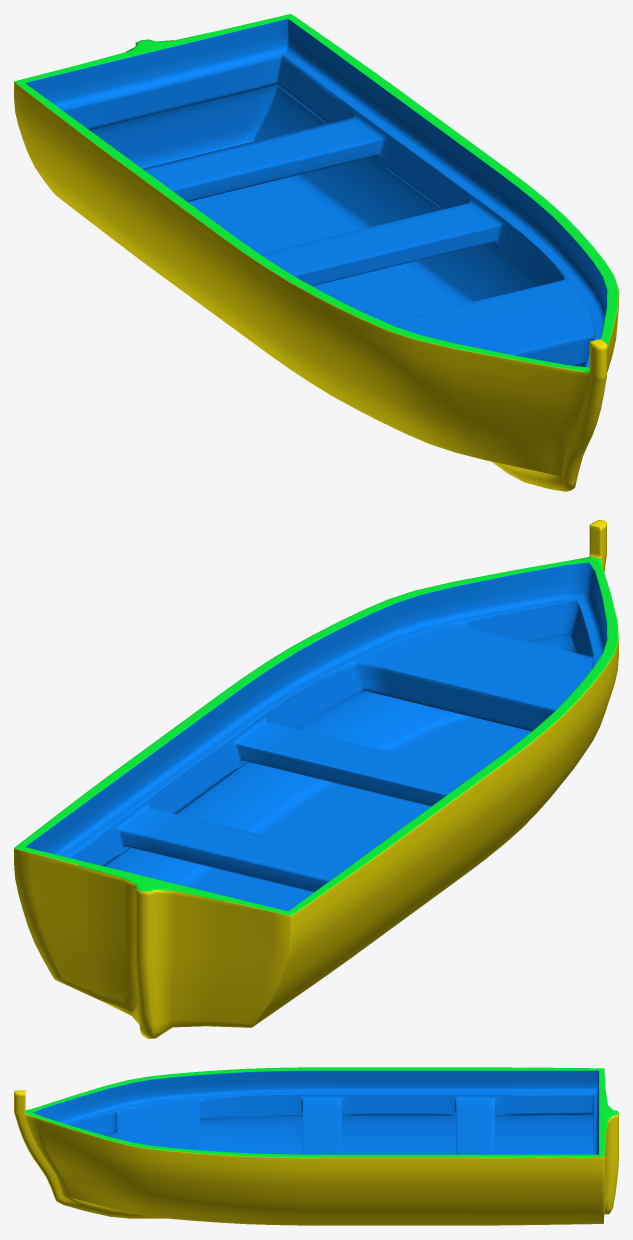
Rendered from boat.fbx.
The picture shows the model from 3 angles, top to bottom: view 1: azimuth 30°, elevation 25°; view 2: azimuth 150°, elevation 25°; view 3: azimuth 270°, elevation 25°; orthographic projection. The views are drawn at different scales.
Visible parts, largest first — view 1: Boat_low; view 2: Boat_low; view 3: Boat_low.
Boxes of the visible parts, x1,y1,x2,y2 form: Boat_low: [14, 14, 618, 491]; Boat_low: [14, 520, 618, 1038]; Boat_low: [14, 1067, 618, 1225].
Bounding box in the file's own units: 189 × 123 × 534.
